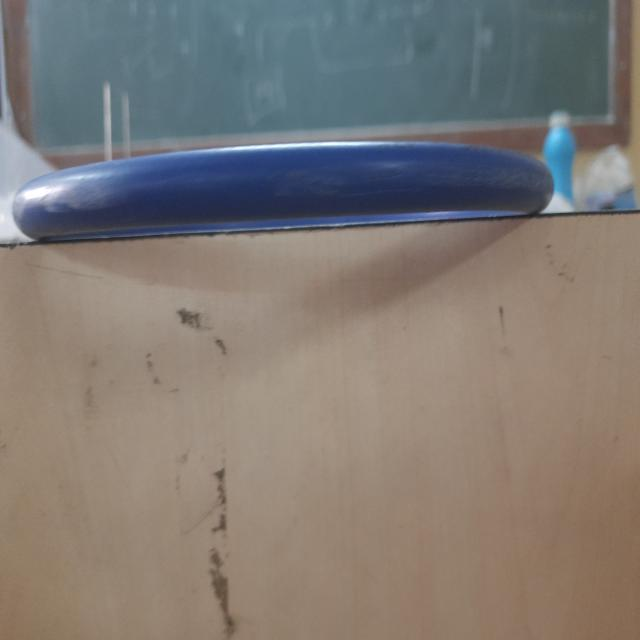daire: (14, 144, 555, 237)
